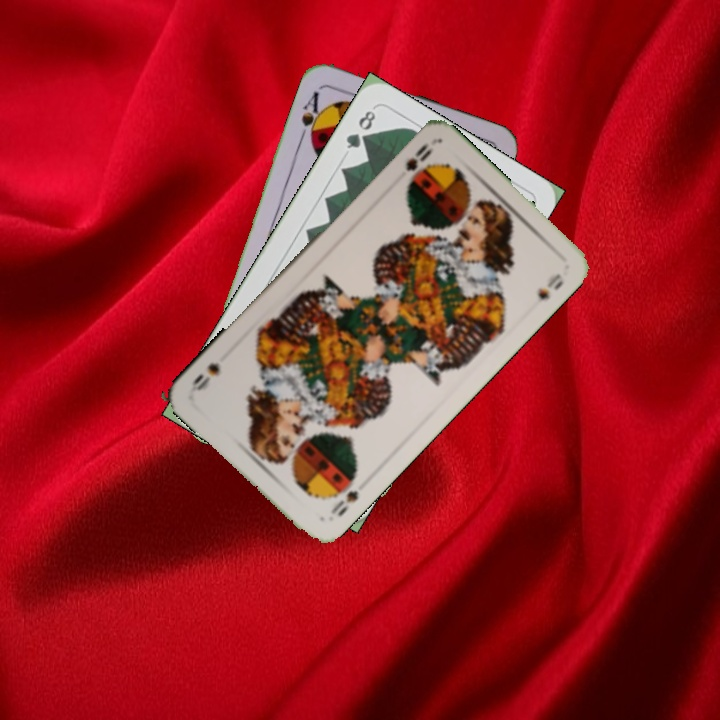G8: (342, 106, 379, 152)
SA: (296, 87, 327, 145)
SO: (401, 140, 436, 174), (326, 486, 361, 520)
